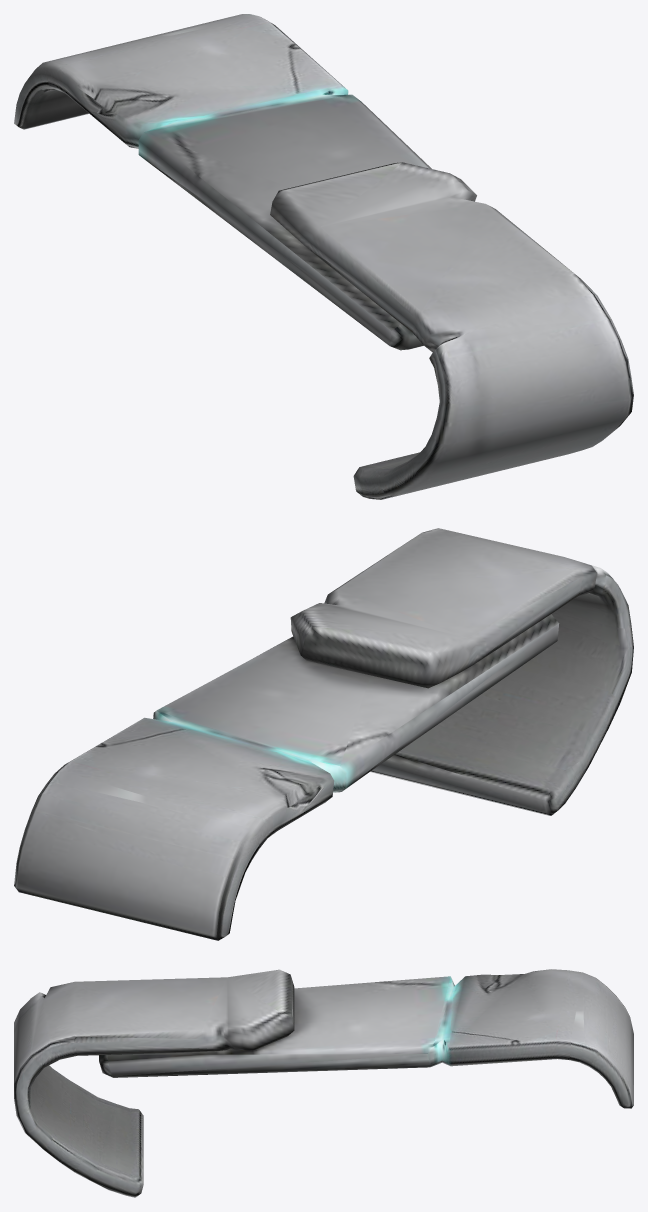
Rendered from 07 junk.glb.
The picture shows the model from 3 angles, top to bottom: view 1: azimuth 30°, elevation 25°; view 2: azimuth 150°, elevation 25°; view 3: azimuth 270°, elevation 25°; orthographic projection. The views are drawn at different scales.
Parts seen in each view (by area): view 1: tripo_node_b4612821-48a0-4222-9c4e-fbfe90e37b8d; view 2: tripo_node_b4612821-48a0-4222-9c4e-fbfe90e37b8d; view 3: tripo_node_b4612821-48a0-4222-9c4e-fbfe90e37b8d.
Boxes of the visible parts, box(x1,y1,x2,y2) form: tripo_node_b4612821-48a0-4222-9c4e-fbfe90e37b8d: box(14, 14, 633, 499); tripo_node_b4612821-48a0-4222-9c4e-fbfe90e37b8d: box(14, 528, 633, 940); tripo_node_b4612821-48a0-4222-9c4e-fbfe90e37b8d: box(14, 969, 633, 1197).
Size of the model in its own units: 0.0578 by 0.0602 by 0.201.
Materials: 1 (1 with a texture image).
